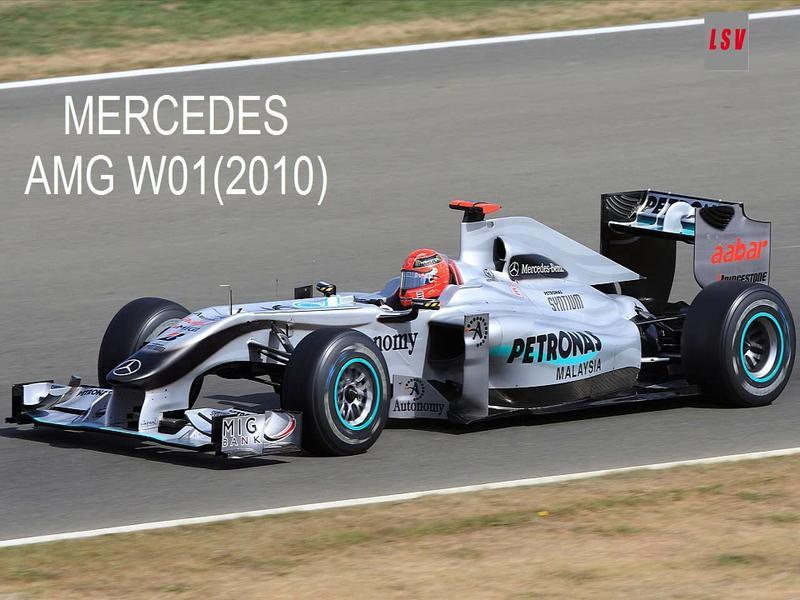f1: (16, 168, 800, 493)
